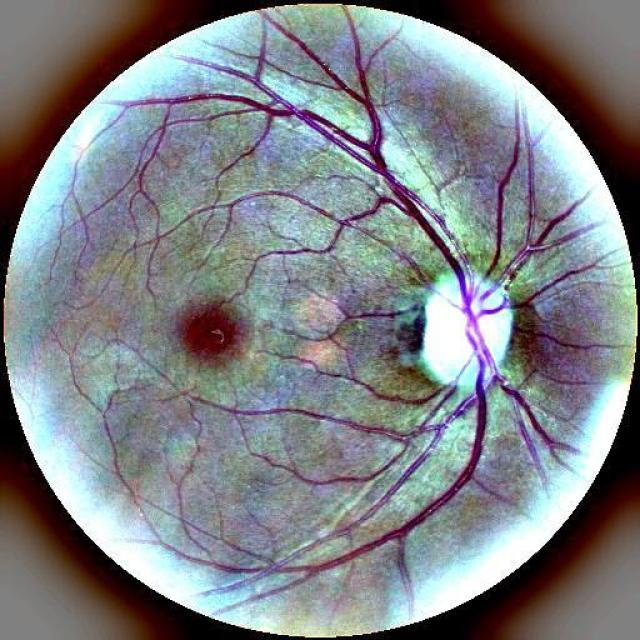Macula: (181, 305, 238, 359)
Nerves: (100, 5, 598, 575)
Optic Disk: (416, 270, 512, 394)
